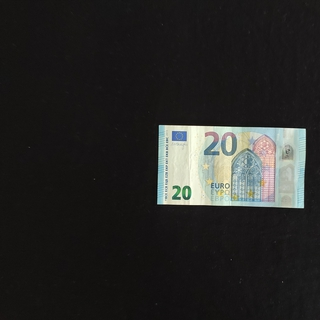20EUROFront: (156, 124, 306, 209)
